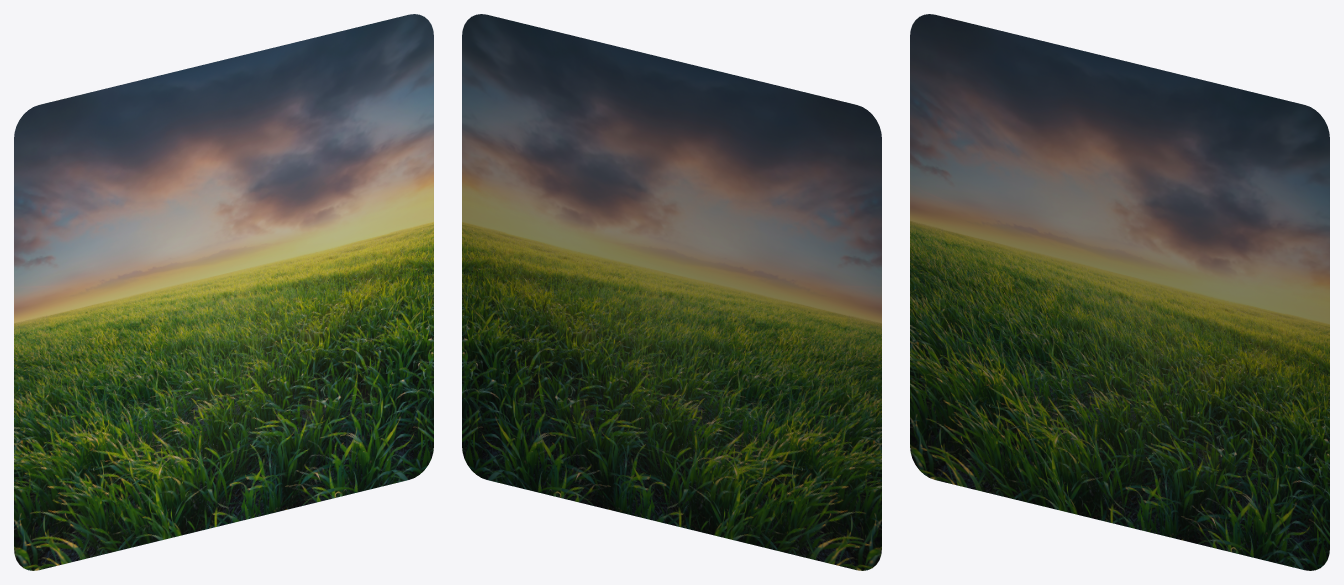
The model's file is card.glb.
3 renders of one model, left to right at view 1: azimuth 30°, elevation 25°; view 2: azimuth 150°, elevation 25°; view 3: azimuth 330°, elevation 25°, orthographic.
Visible parts, largest first — view 1: Card; view 2: Card; view 3: Card.
Boxes of the visible parts, box(x1,y1,x2,y2) form: Card: box(14, 14, 433, 570); Card: box(462, 14, 881, 570); Card: box(910, 14, 1329, 570).
Size of the model in its own units: 3.2 by 3.39 by 1.98e-07.
1 material, 1 textured.
